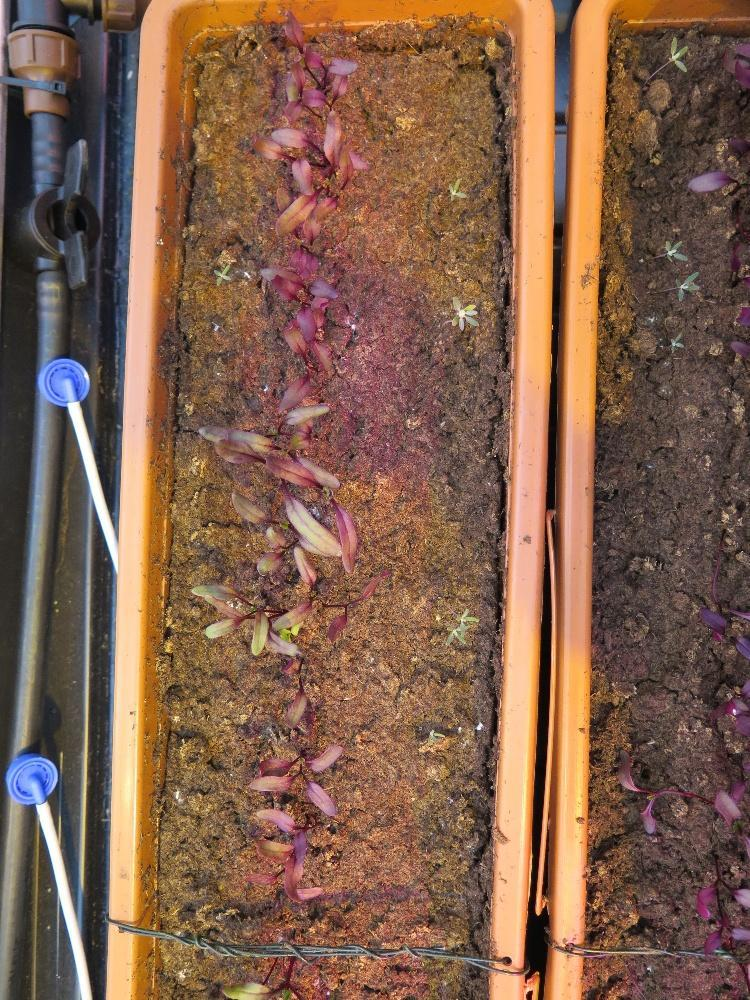weed: (448, 293, 479, 333), (666, 32, 688, 72), (674, 269, 698, 302), (663, 237, 687, 262), (446, 175, 467, 203), (211, 259, 231, 287), (425, 726, 445, 749), (668, 328, 684, 355)
